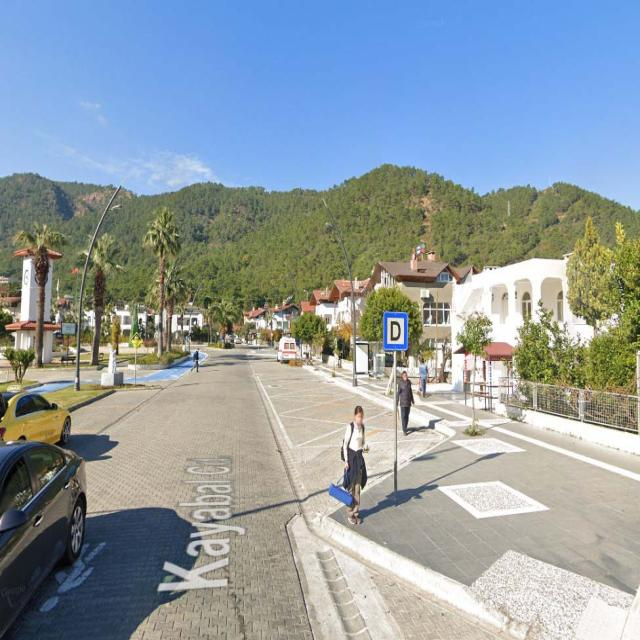durak: (384, 314, 407, 348)
